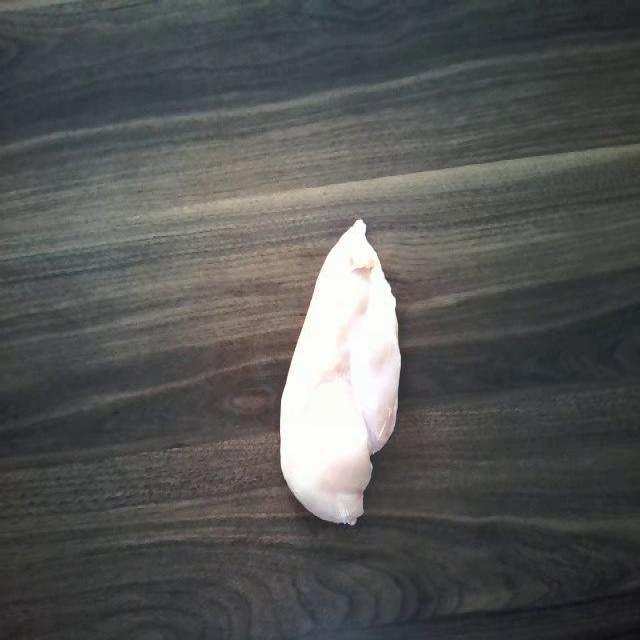breast: (270, 222, 406, 524)
